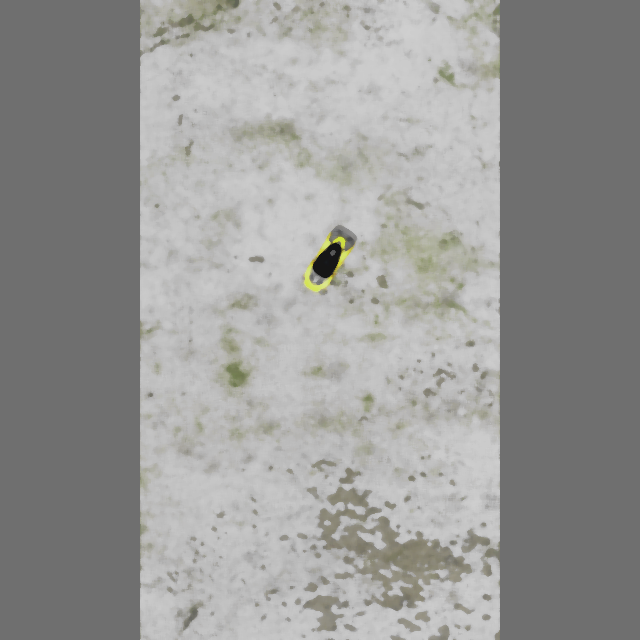car: (296, 224, 358, 298)
